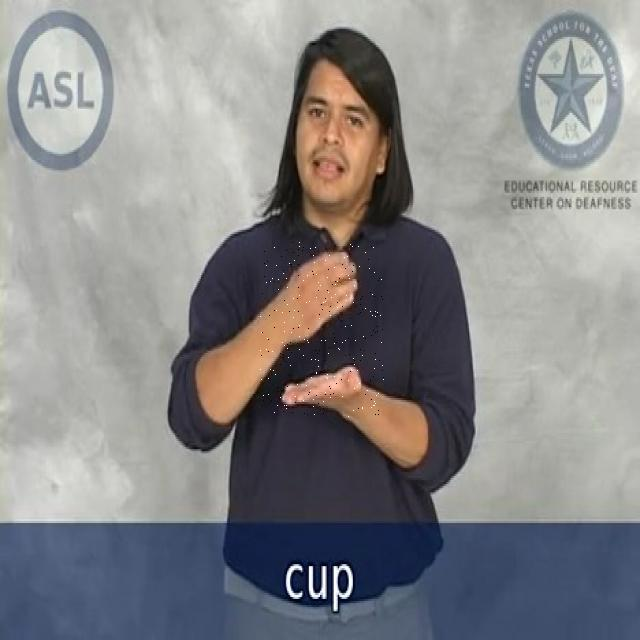cup: (260, 242, 384, 417)
